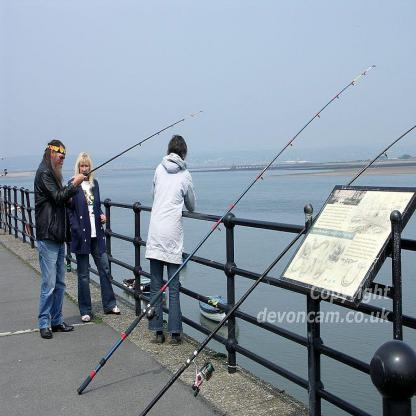face: (54, 151, 66, 171), (81, 160, 91, 178)
